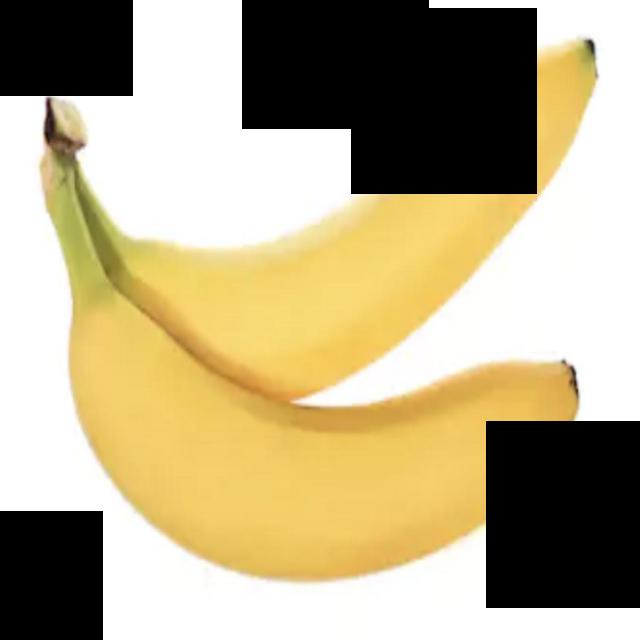banana: (23, 121, 625, 602), (55, 29, 636, 434)
